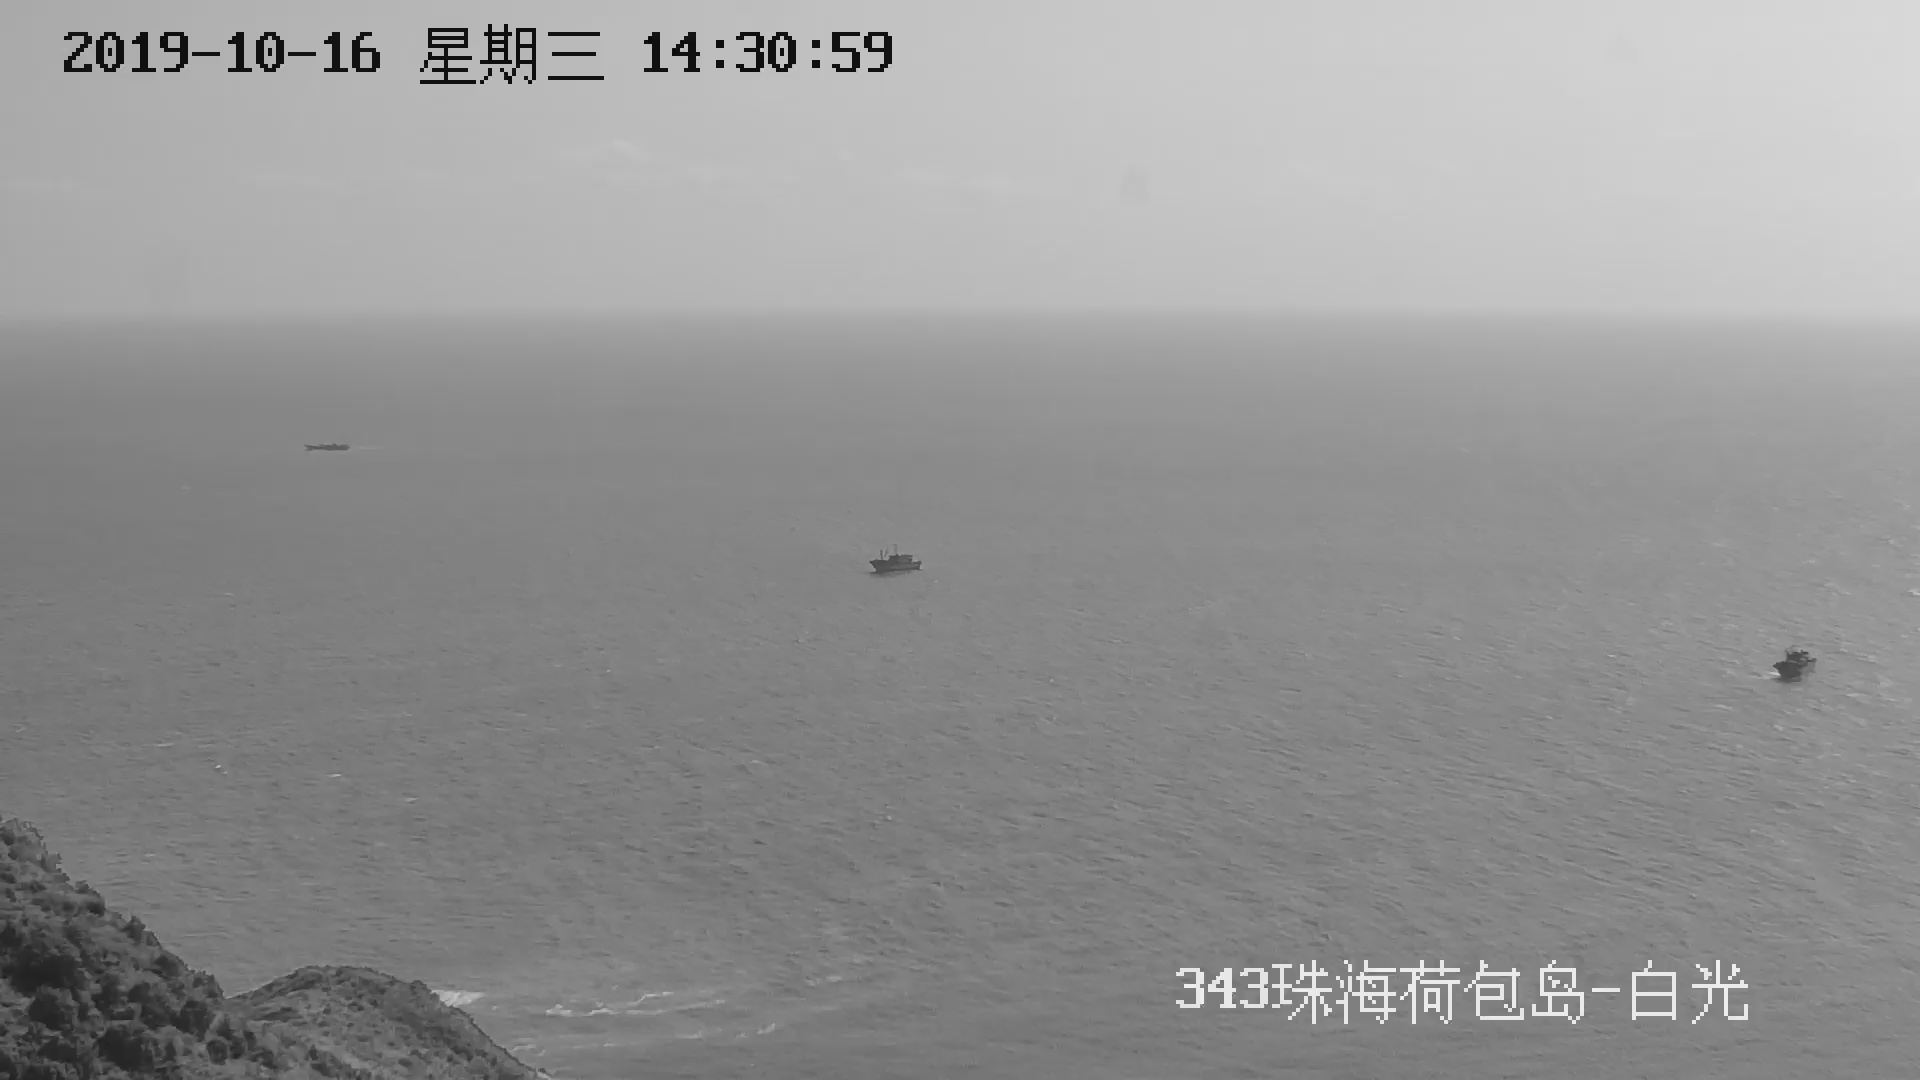ship: (1774, 644, 1824, 684), (866, 553, 922, 578), (305, 438, 353, 459)
